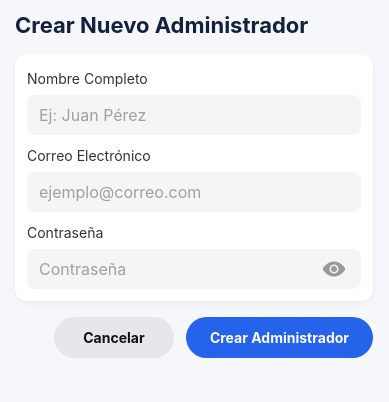
it: AdminCreateScreen › valida longitud mínima de contraseña
The width and height of the screenshot is (389, 402).
Type "Admin" into the field with placeholder "Ej: Juan Pérez" at (194, 115), box [27, 95, 361, 135]
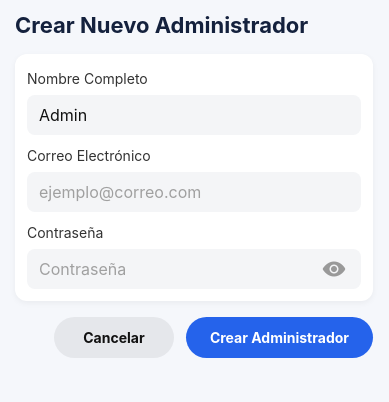
Type "admin@test.com" into the field with placeholder "ejemplo@correo.com" at (194, 192), box [27, 172, 361, 212]
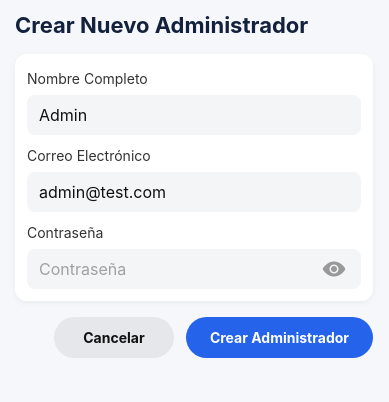
Type "123" into the password field with placeholder "Contraseña" at (194, 269), box [27, 249, 361, 289]
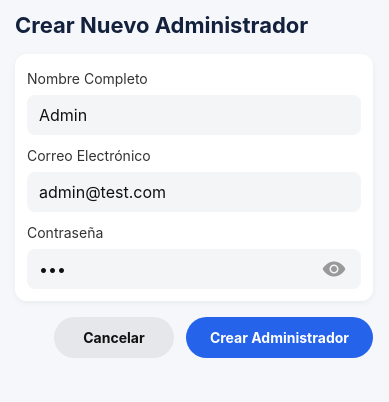
Click the text "Crear Administrador" at (279, 338), box [210, 329, 349, 346]
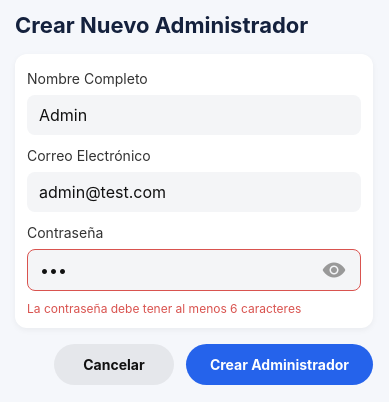
expect the text "La contraseña debe tener al menos 6 caracteres" is shown: met, box [27, 301, 301, 316]
